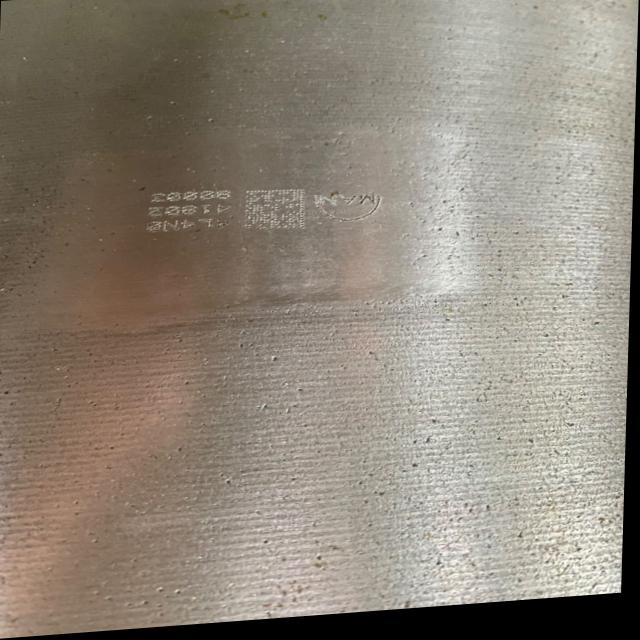dmc: (245, 193, 304, 233)
